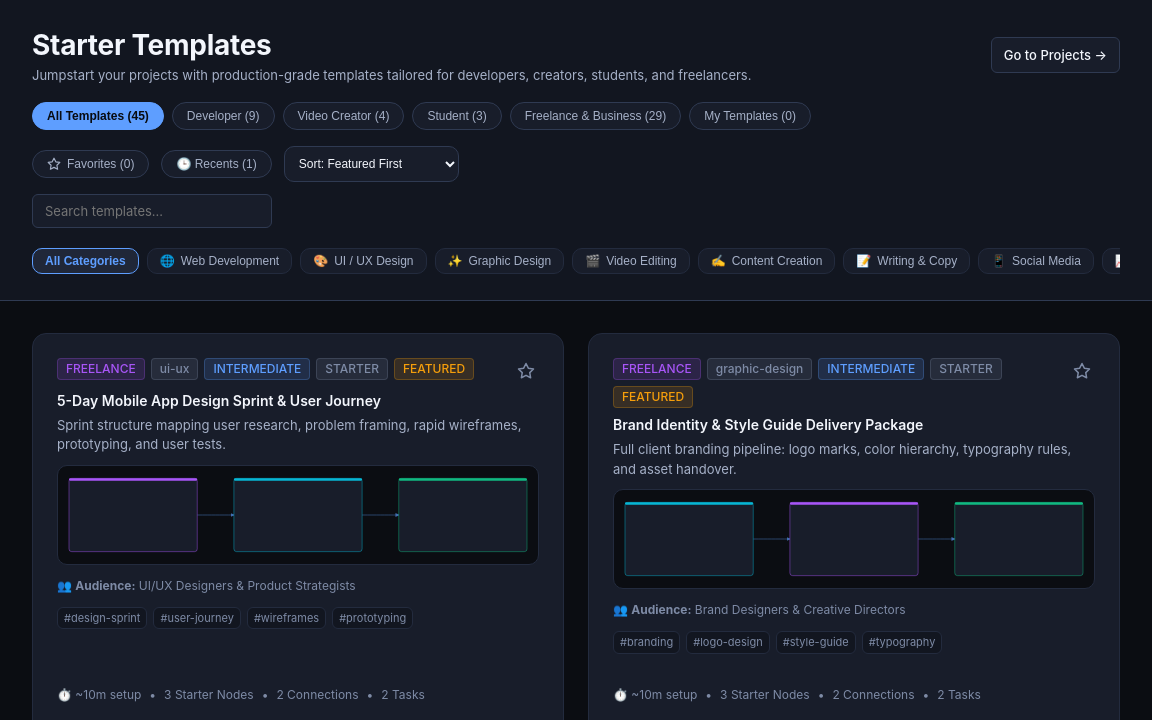
Test case: Phase 7: Template Gallery Recents & Complexity Discovery › resets all filters including recents when Reset Filters is clicked
Type "nonexistent-query-xyz-12345" into the field with placeholder "Search templates...".
click(152, 210); type("nonexistent-query-xyz-12345")  # box [32,194,272,228]
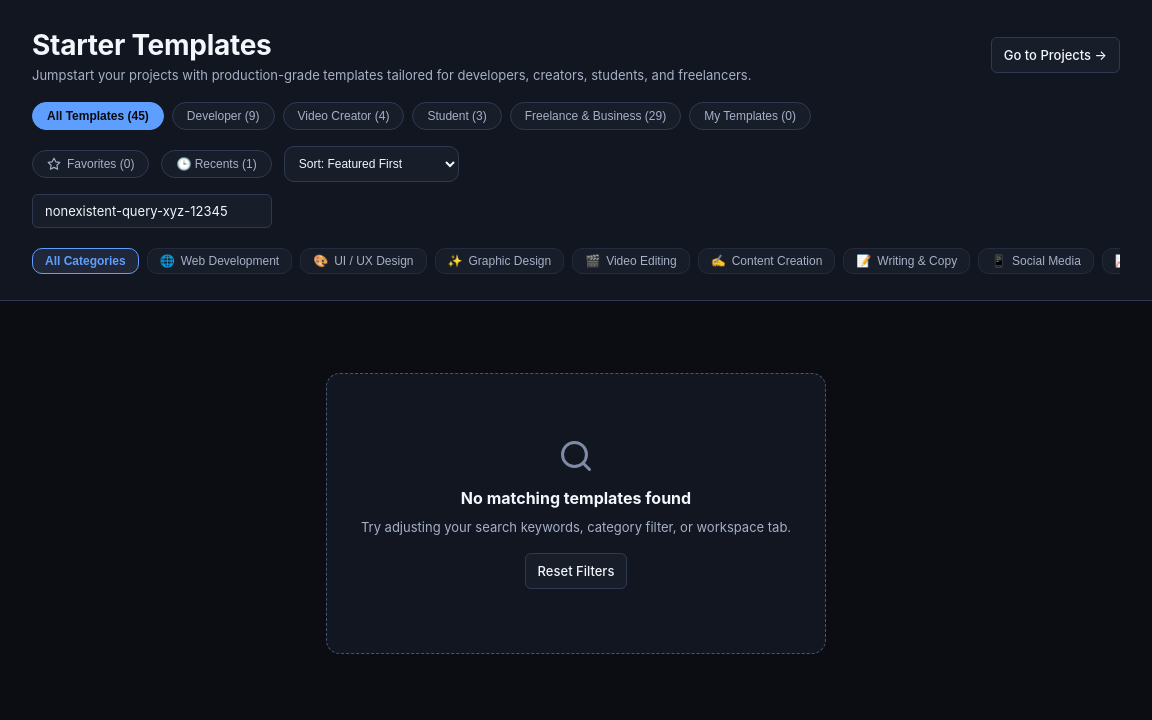
Expected: the heading "No matching templates found" is shown, [461,486,691,510]
# Click Reset Filters
Click the button "Reset Filters".
click(576, 571)  # box [525,553,627,589]
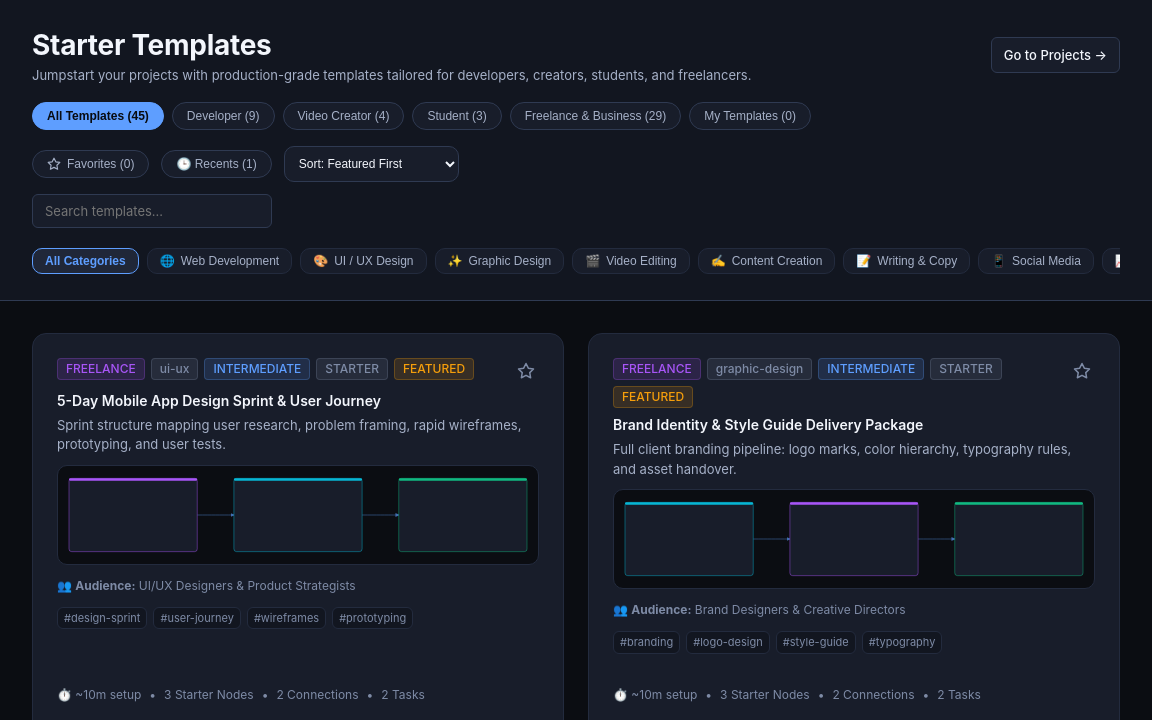
Expected: the heading "No matching templates found" is gone
